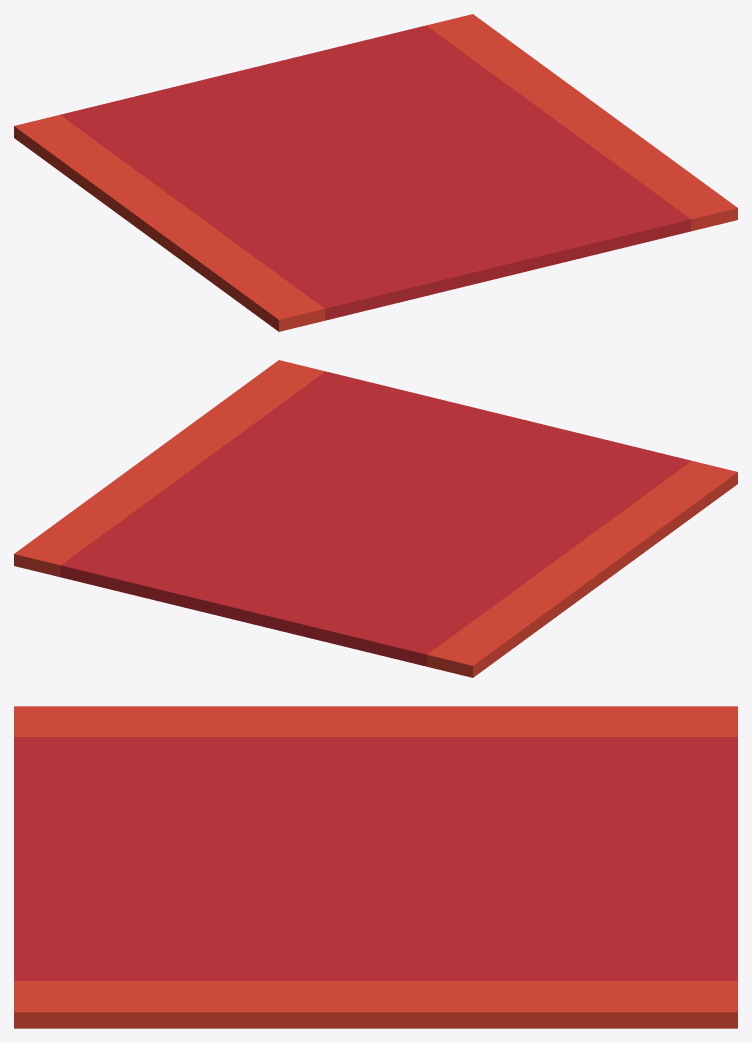
Rendered from carpet.glb.
The picture shows the model from 3 angles, top to bottom: view 1: azimuth 30°, elevation 25°; view 2: azimuth 150°, elevation 25°; view 3: azimuth 270°, elevation 25°; orthographic projection. The views are drawn at different scales.
Parts seen in each view (by area): view 1: carpet; view 2: carpet; view 3: carpet.
Part boxes in pixels (x1,y1,x2,y2): carpet: (14,14,737,331); carpet: (14,360,737,677); carpet: (14,706,737,1028).
Bounding box in the file's own units: 2 × 0.05 × 2.
1 material, 1 textured.
